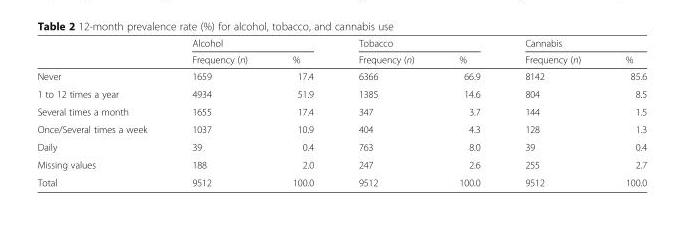table: (36, 36, 646, 187)
table column: (36, 36, 168, 187), (168, 36, 269, 187), (501, 36, 602, 187), (335, 36, 435, 187), (269, 36, 335, 187), (435, 36, 501, 187), (602, 36, 646, 187)
table column header: (36, 36, 646, 67)
table row: (36, 84, 646, 102), (36, 102, 646, 120), (36, 137, 646, 155), (36, 155, 646, 173), (36, 50, 646, 67), (36, 67, 646, 84), (36, 120, 646, 137), (36, 36, 646, 50), (36, 173, 646, 187)
table spanning cell: (168, 36, 335, 50), (335, 36, 501, 50), (501, 36, 646, 50)
